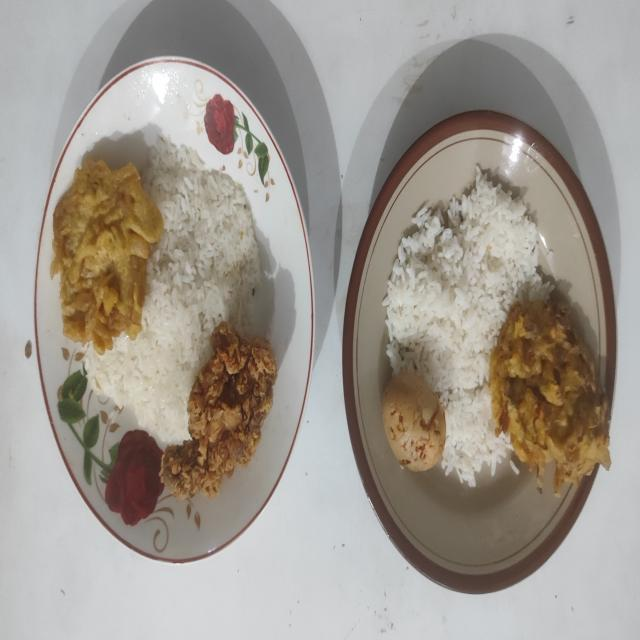nasi_putih: (86, 139, 264, 444), (382, 168, 550, 486)
